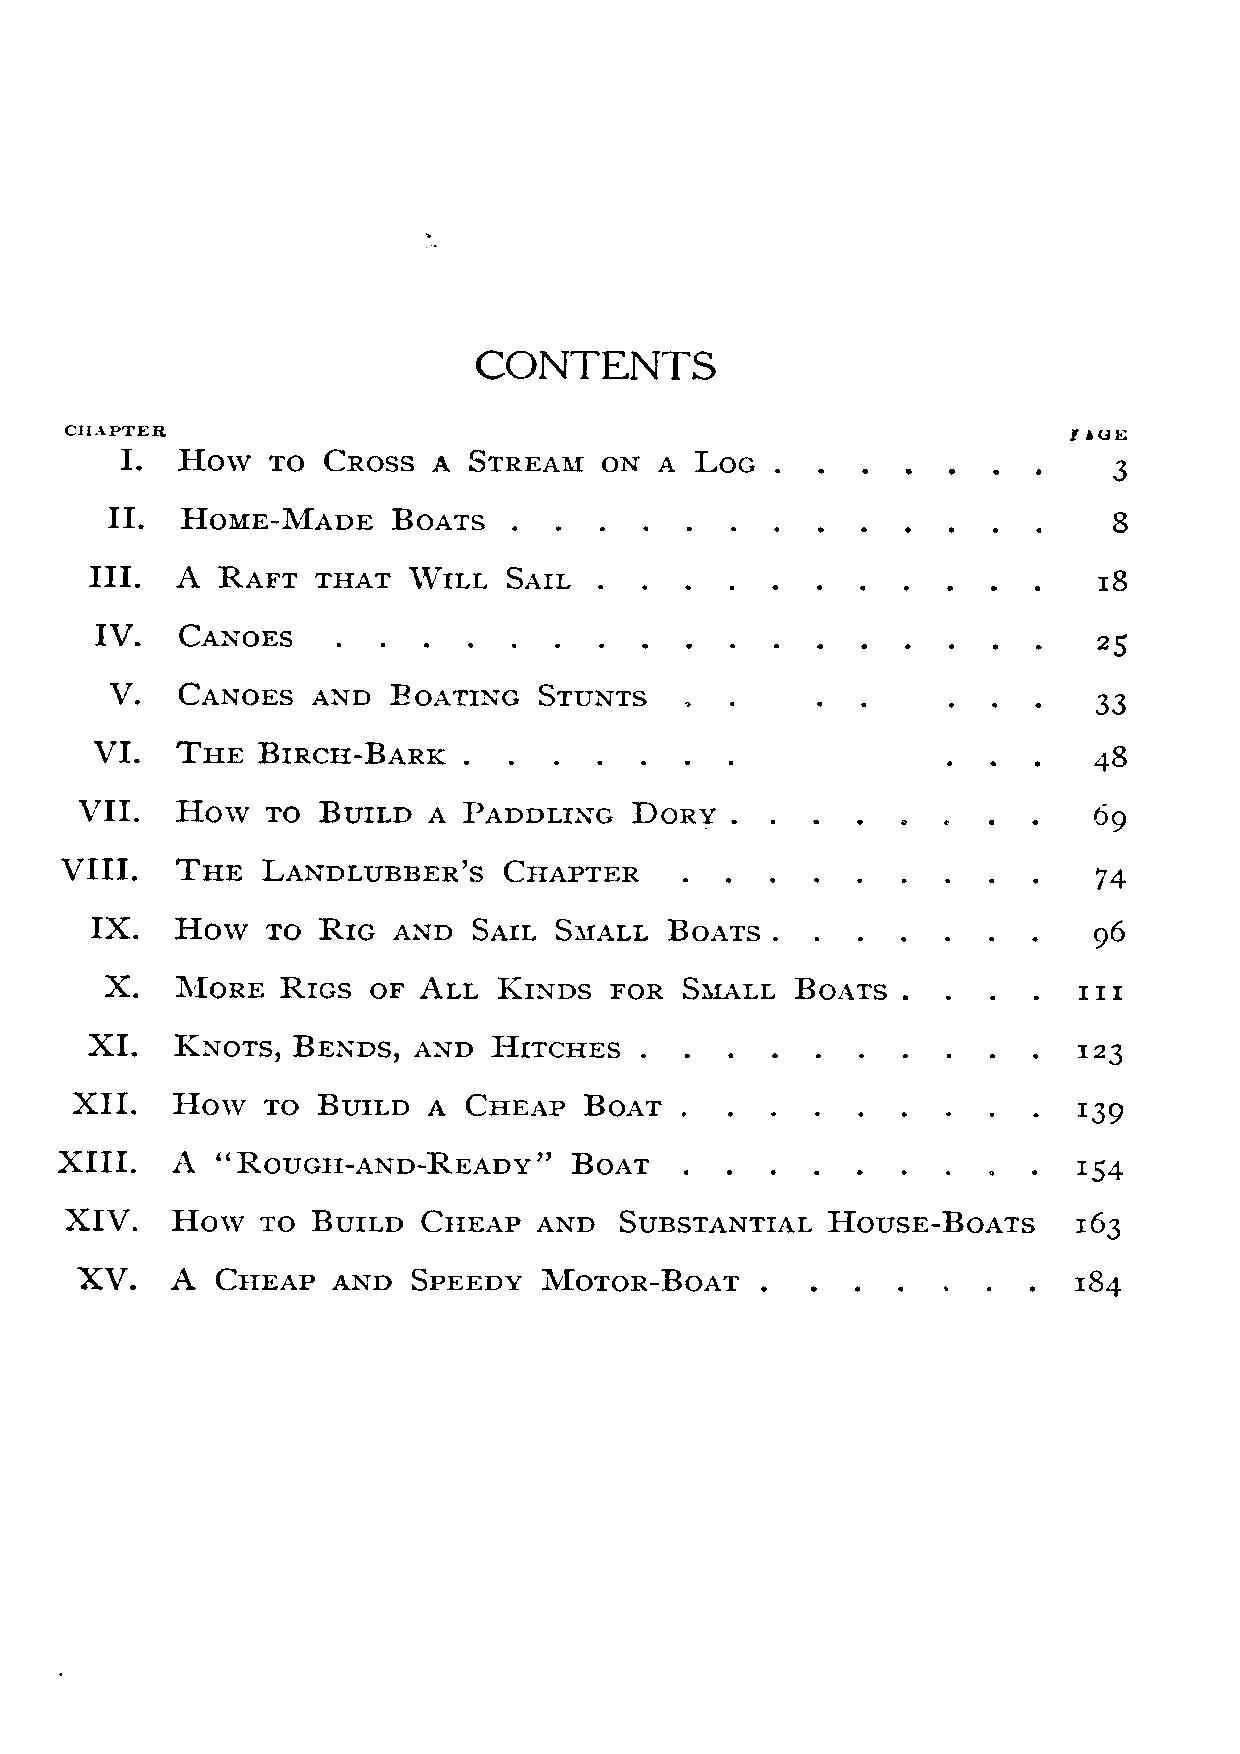TOC_chapter: (60, 1204, 1037, 1239), (91, 909, 770, 947), (75, 1260, 746, 1299), (101, 972, 888, 1002), (117, 443, 757, 480), (52, 1147, 660, 1182), (76, 794, 717, 827), (58, 854, 647, 888), (71, 1086, 675, 1119), (105, 674, 648, 710), (85, 557, 574, 596), (83, 1027, 625, 1060), (106, 501, 493, 535), (93, 735, 448, 766), (91, 619, 299, 654)
TOC_pagenumber: (1075, 1208, 1125, 1241), (1072, 1154, 1126, 1185), (1076, 980, 1129, 1007), (1078, 1037, 1126, 1066), (1075, 1099, 1125, 1125), (1091, 564, 1129, 597), (1095, 798, 1126, 832), (1088, 917, 1126, 943), (1096, 629, 1129, 660), (1092, 743, 1126, 773), (1092, 864, 1127, 892), (1094, 687, 1125, 718), (1076, 1270, 1119, 1290), (1107, 505, 1133, 535), (1111, 454, 1133, 484)
chapter: (472, 342, 721, 382)
